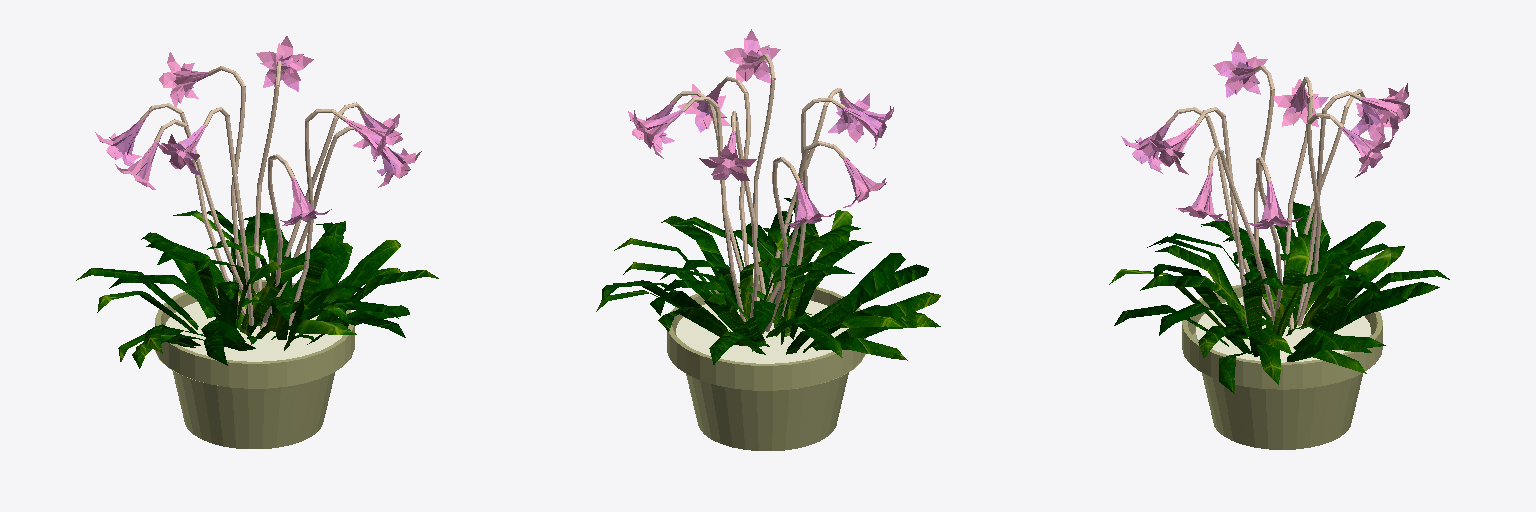
3 views of the same model, side by side, from view 1: azimuth 30°, elevation 25°; view 2: azimuth 150°, elevation 25°; view 3: azimuth 270°, elevation 25° (orthographic).
Parts seen in each view (by area): view 1: (null); view 2: (null); view 3: (null).
Boxes of the visible parts, box(x1,y1,x2,y2) form: (null): box(76, 36, 438, 448); (null): box(596, 29, 940, 450); (null): box(1109, 42, 1449, 449).
Size of the model in its own units: 44.96 by 47.72 by 44.84.
Materials: 4 (2 with a texture image).